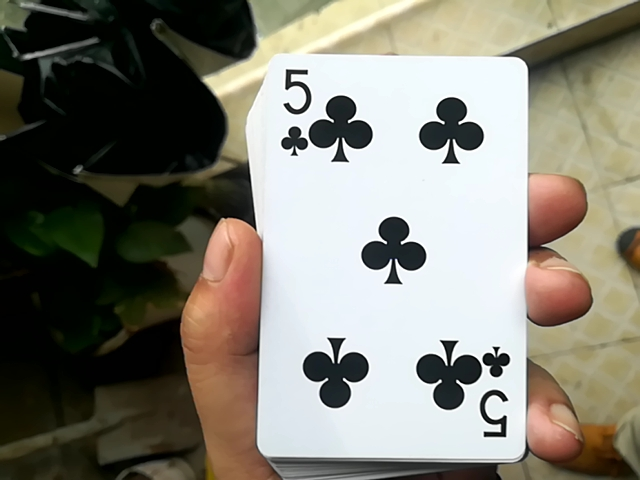mh 5: (234, 60, 542, 463)
